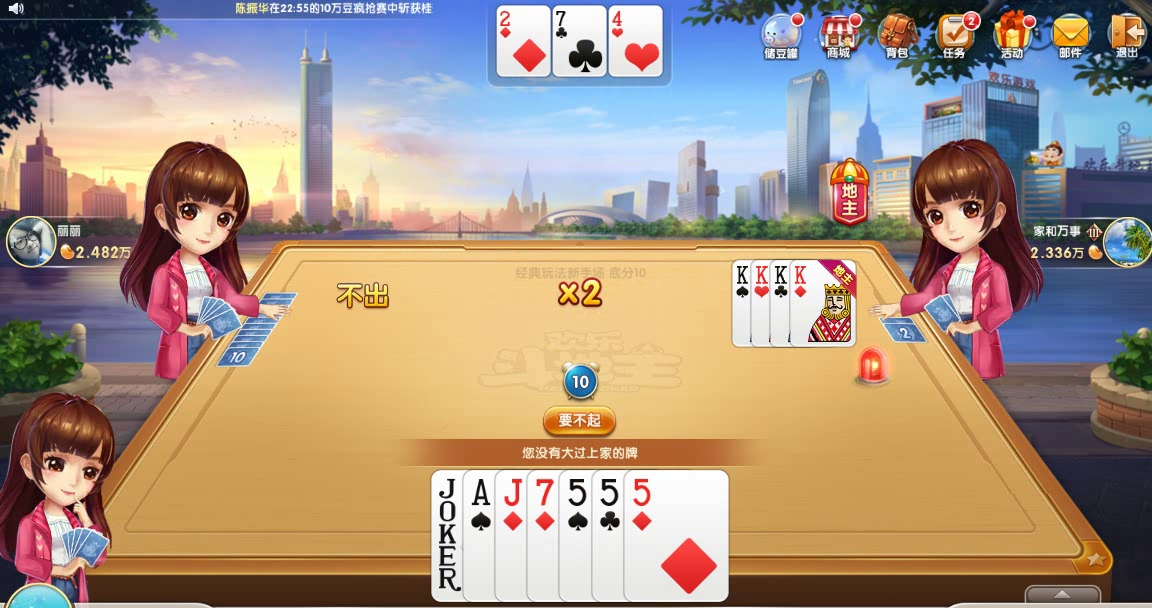11~1: (495, 469, 602, 602)
13~1: (790, 260, 855, 346)
13~2: (770, 260, 835, 346)
13~3: (750, 260, 815, 346)
13~4: (732, 260, 797, 346)
14~4: (462, 469, 569, 602)
15~1: (497, 4, 552, 78)
17~3: (431, 469, 538, 602)
4~3: (609, 4, 664, 78)
5~1: (623, 469, 730, 602)
5~2: (592, 469, 699, 602)
5~4: (559, 469, 666, 602)
7~1: (527, 469, 634, 602)
7~2: (553, 4, 608, 78)
